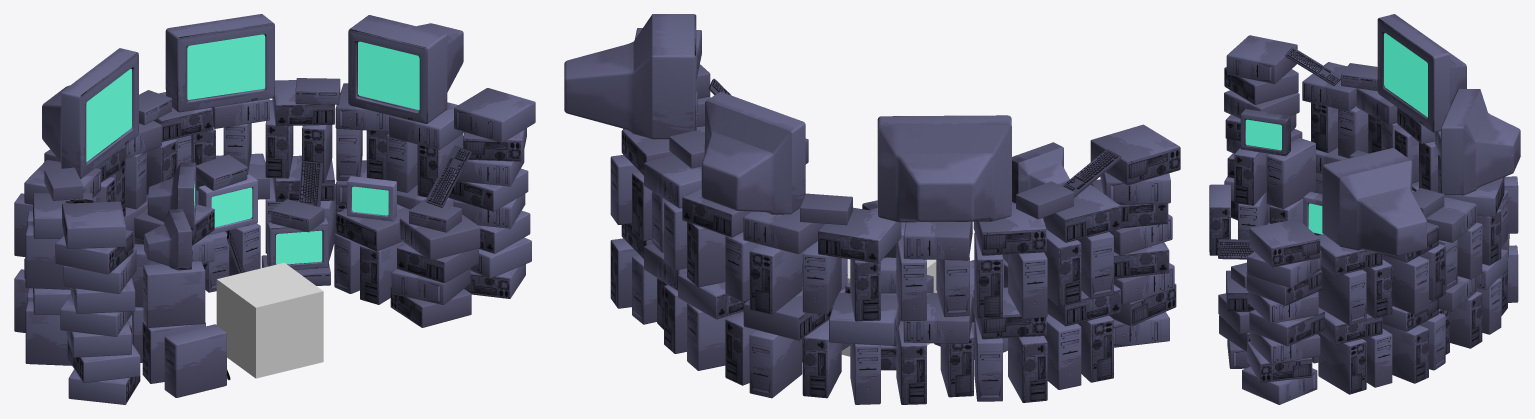
The model's file is background2.glb.
3 views of the same model, side by side, from view 1: azimuth 30°, elevation 25°; view 2: azimuth 150°, elevation 25°; view 3: azimuth 270°, elevation 25° (orthographic). The views are drawn at different scales.
Visible parts, largest first — view 1: Screen D.004_110, Cube, Screen D.003_109, Screen D.002_108, PC 01.011_30, PC 01.010_29, PC 02.026_76, PC 02.012_38, Screen D.001_105, Screen C.001_102, PC 01.007_23, Screen B.002_107 (+66 smaller); view 2: Screen D.002_108, Screen D.004_110, Screen D.003_109, PC 02.012_38, PC 01.032_64, PC 02.021_61, PC 02.016_47, PC 01.030_62, PC 01.023_50, PC 02.022_66, PC 01.031_63, PC 01.033_65 (+49 smaller); view 3: Screen D.004_110, Screen D.002_108, Screen D.003_109, PC 01.005_17, PC 02.026_76, PC 02.012_38, PC 02.027_78, PC 02.032_90, Screen B.002_107, PC 01.047_89, PC 01.038_77, PC 01.010_29 (+55 smaller).
Part boxes in pixels (bbox=[...]): Screen D.004_110: bbox=[348, 15, 463, 123]; Cube: bbox=[216, 262, 323, 378]; Screen D.003_109: bbox=[165, 14, 274, 112]; Screen D.002_108: bbox=[42, 48, 138, 178]; PC 01.011_30: bbox=[164, 324, 226, 397]; PC 01.010_29: bbox=[143, 261, 205, 327]; PC 02.026_76: bbox=[454, 88, 535, 142]; PC 02.012_38: bbox=[62, 201, 125, 248]; Screen D.001_105: bbox=[267, 218, 328, 269]; Screen C.001_102: bbox=[198, 174, 257, 235]; PC 01.007_23: bbox=[399, 214, 480, 260]; Screen B.002_107: bbox=[144, 208, 191, 270]; Screen D.002_108: bbox=[877, 115, 1011, 222]; Screen D.004_110: bbox=[564, 14, 696, 139]; Screen D.003_109: bbox=[701, 92, 805, 214]; PC 02.012_38: bbox=[1090, 124, 1180, 185]; PC 01.032_64: bbox=[818, 207, 901, 263]; PC 02.021_61: bbox=[749, 244, 802, 314]; PC 02.016_47: bbox=[749, 330, 802, 398]; PC 01.030_62: bbox=[1043, 184, 1120, 242]; PC 01.023_50: bbox=[829, 292, 900, 345]; PC 02.022_66: bbox=[973, 203, 1046, 255]; PC 01.031_63: bbox=[903, 221, 972, 260]; PC 01.033_65: bbox=[743, 208, 824, 254]; Screen D.004_110: bbox=[1322, 148, 1426, 256]; Screen D.002_108: bbox=[1377, 14, 1466, 132]; Screen D.003_109: bbox=[1441, 89, 1520, 195]; PC 01.005_17: bbox=[1266, 138, 1315, 209]; PC 02.026_76: bbox=[1249, 218, 1320, 267]; PC 02.012_38: bbox=[1226, 35, 1297, 83]; PC 02.027_78: bbox=[1318, 333, 1366, 394]; PC 02.032_90: bbox=[1318, 265, 1366, 325]; Screen B.002_107: bbox=[1240, 109, 1290, 156]; PC 01.047_89: bbox=[1382, 255, 1428, 314]; PC 01.038_77: bbox=[1382, 324, 1428, 383]; PC 01.010_29: bbox=[1234, 147, 1269, 205].
Size of the model in its own units: 14.29 by 7.66 by 8.76.
5 materials, 1 textured.
